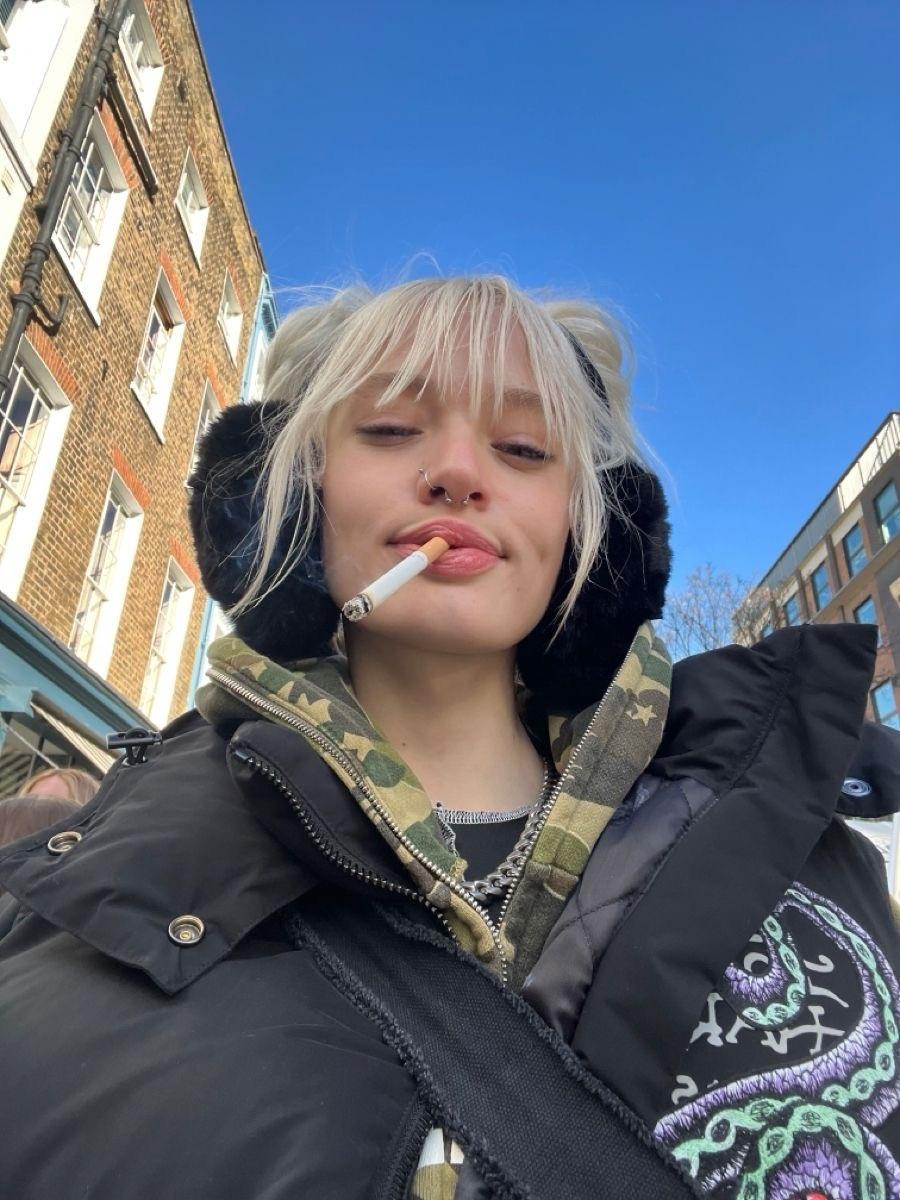cigarette: (342, 537, 450, 622)
